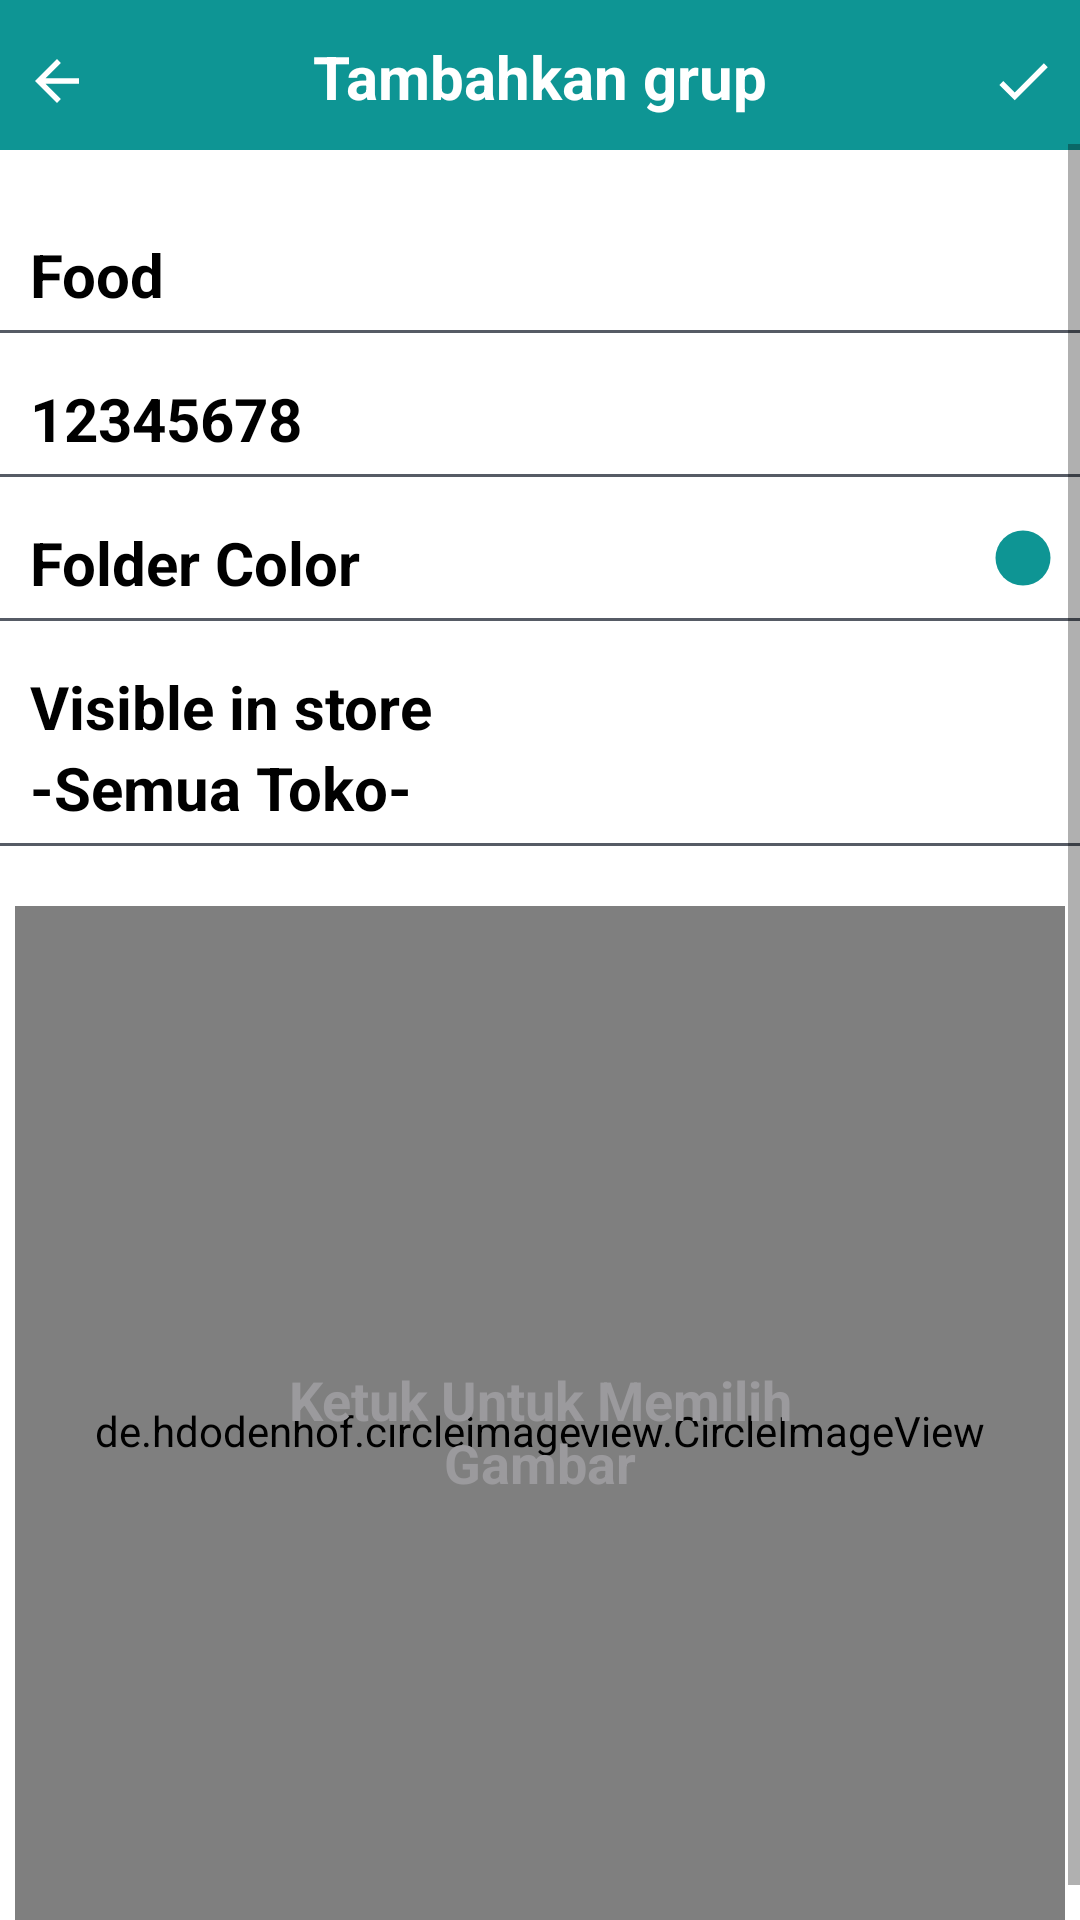

Icons on this 1080px×1920px Android screen, each with the point to tap as (x=x, y=y):
back: (x=57, y=81)
check: (x=1023, y=81)
